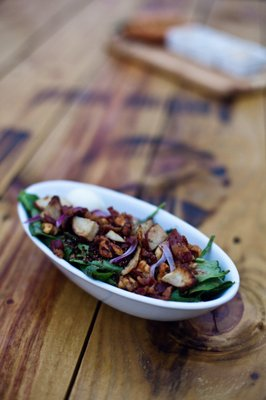sushi: (15, 179, 241, 323)
